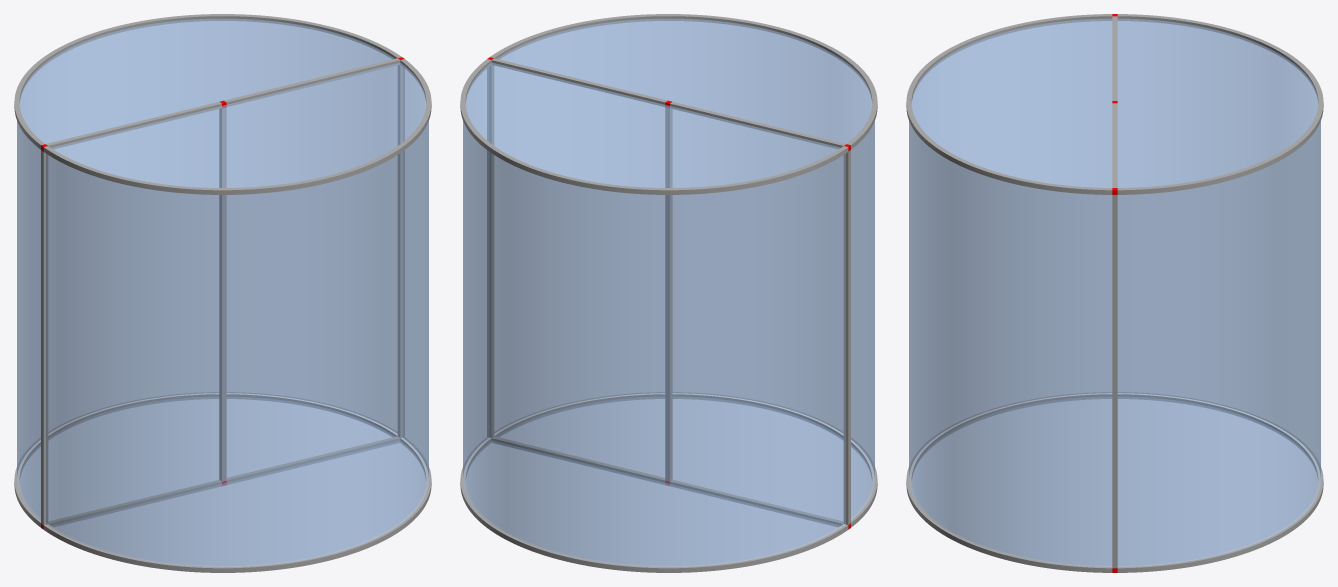
The picture shows the model from 3 angles, left to right: view 1: azimuth 30°, elevation 25°; view 2: azimuth 150°, elevation 25°; view 3: azimuth 270°, elevation 25°; orthographic projection.
Visible parts, largest first — view 1: Cil; view 2: Cil; view 3: Cil.
Part boxes in pixels (box(x1,y1,x2,y2)): Cil: box(14, 14, 431, 572); Cil: box(460, 14, 877, 572); Cil: box(906, 14, 1323, 572).
Size of the model in its own units: 40 by 40.5 by 40.
